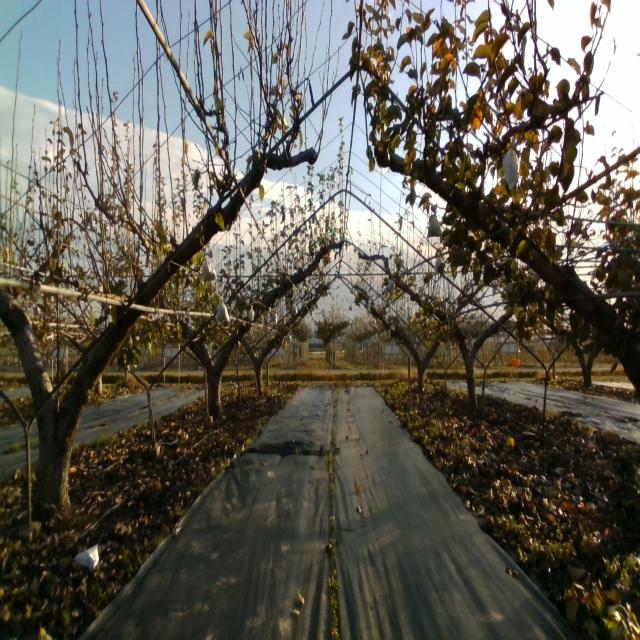pearbags: (502, 134, 521, 192), (427, 210, 442, 238), (202, 256, 218, 282), (217, 297, 230, 322)
